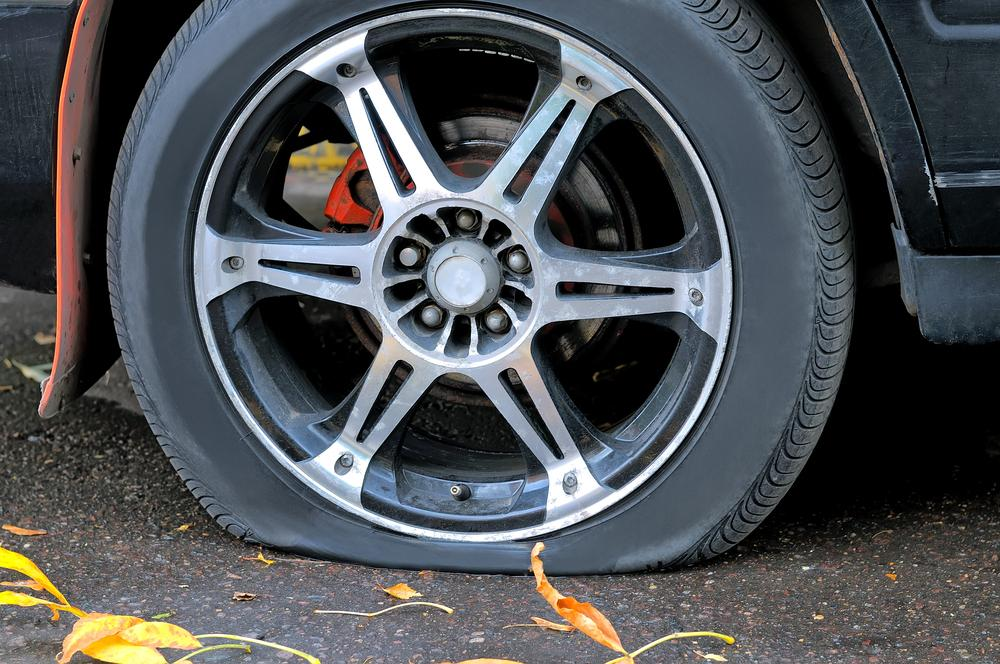tire flat: (107, 0, 856, 576)
